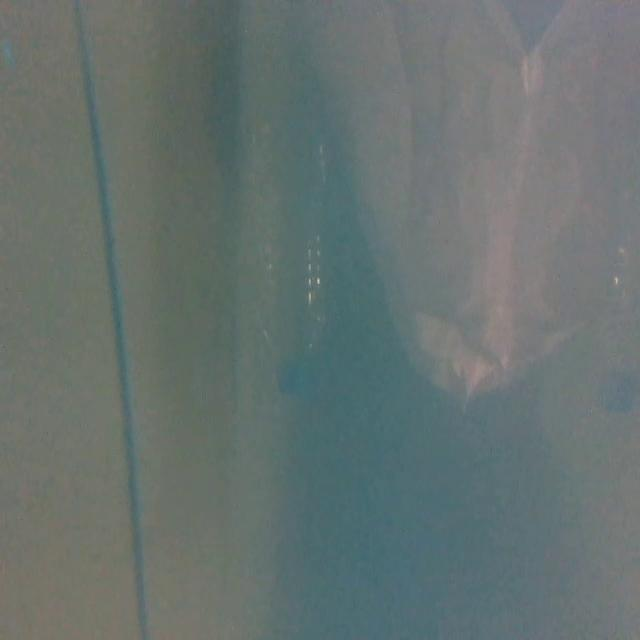plastic bags: (356, 0, 606, 404)
plastic bottle: (248, 115, 331, 392)
